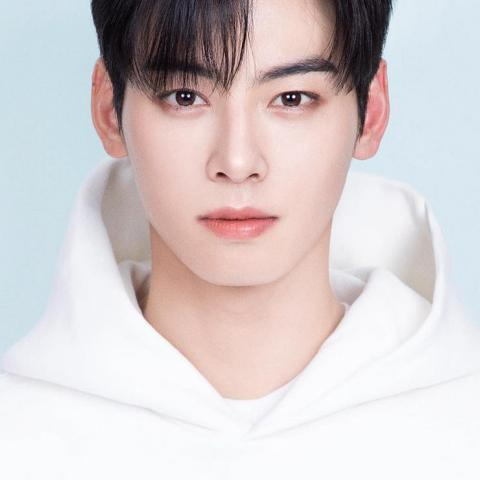opened: (106, 41, 374, 145)
